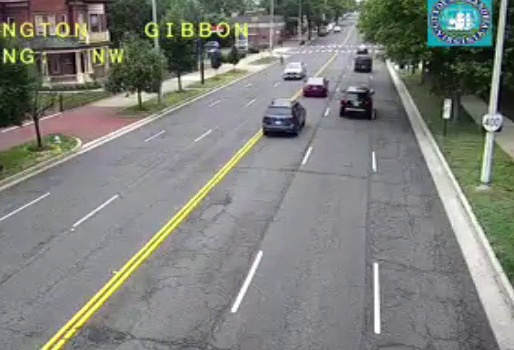car: (262, 99, 305, 133), (340, 87, 372, 113), (302, 78, 327, 98), (354, 56, 373, 74)
